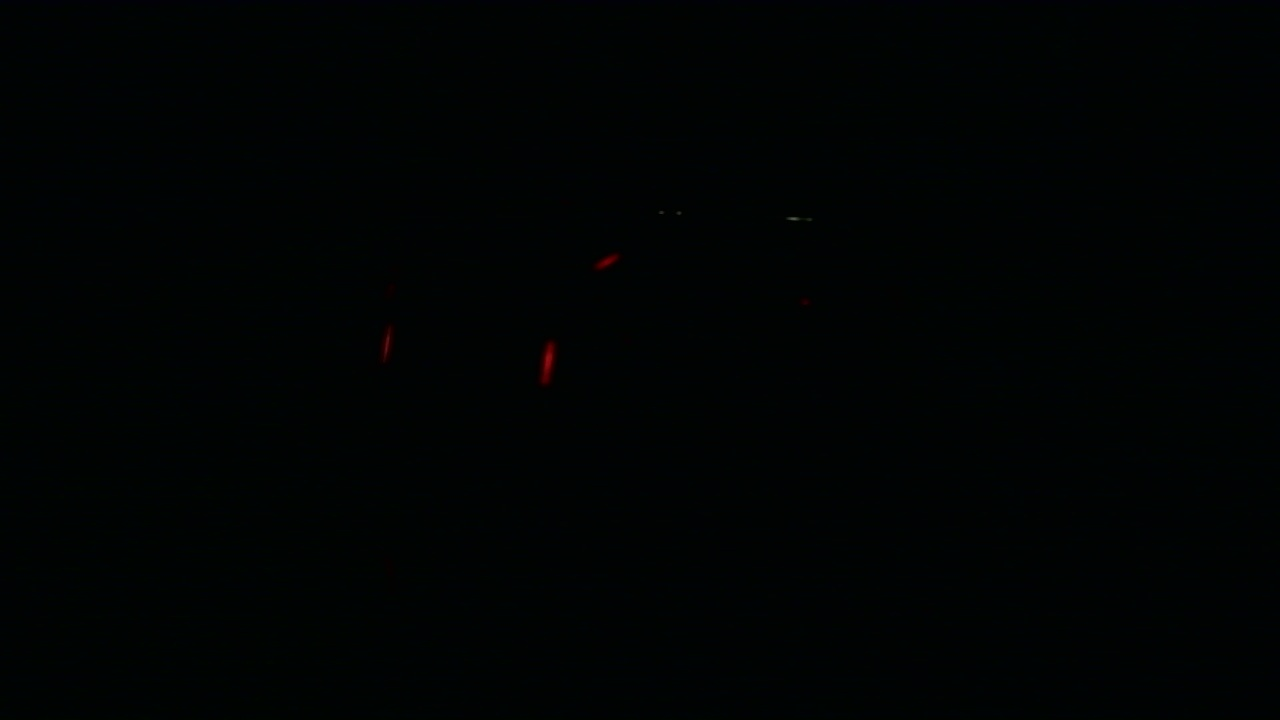lamp: (543, 318, 553, 388), (377, 319, 390, 361)
pair2: (377, 320, 556, 389)
